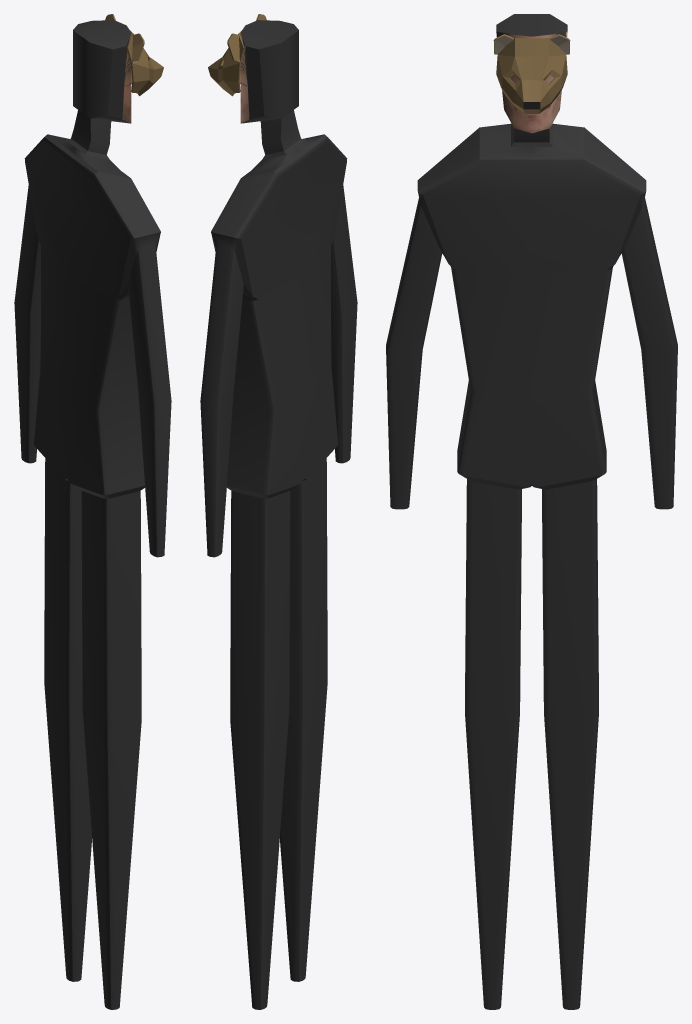
The model's file is Ours.fbx.
3 views of the same model, side by side, from view 1: azimuth 30°, elevation 25°; view 2: azimuth 150°, elevation 25°; view 3: azimuth 270°, elevation 25° (orthographic). The views are drawn at different scales.
Visible parts, largest first — view 1: Ours; view 2: Ours; view 3: Ours.
Boxes of the visible parts, <box> form: Ours: <box>14,14,171,1009</box>; Ours: <box>200,14,357,1009</box>; Ours: <box>386,14,677,1009</box>.
Size of the model in its own units: 1.1 by 10.95 by 2.93.
